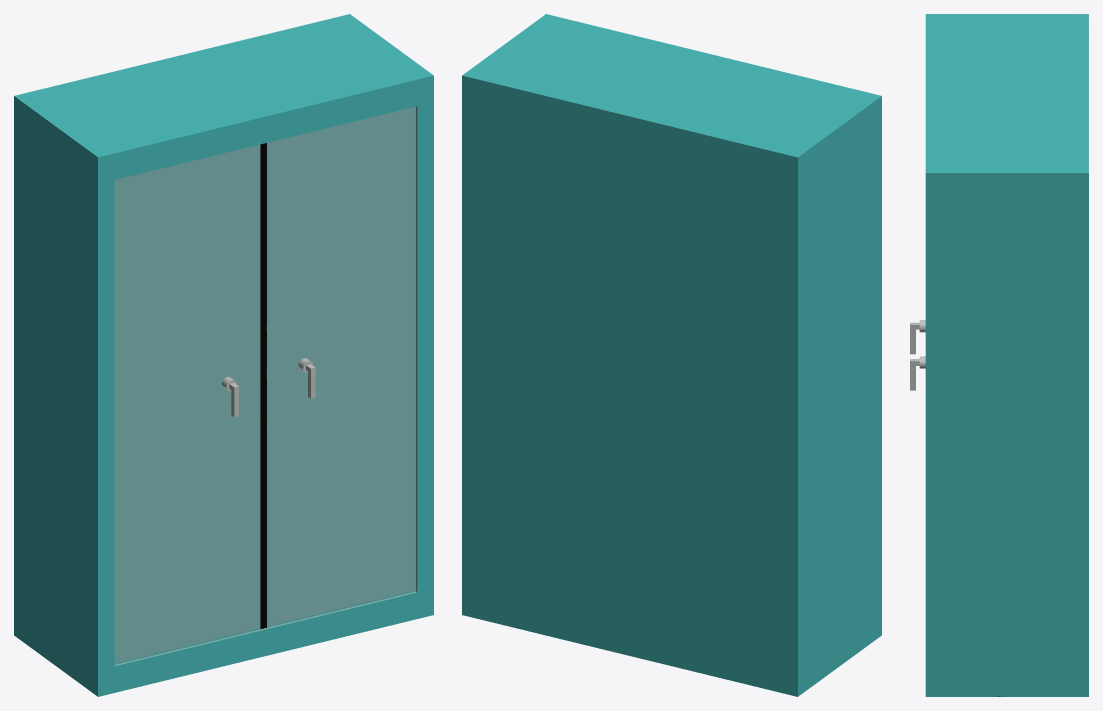
Rendered from Locker.obj.
3 views of the same model, side by side, from view 1: azimuth 30°, elevation 25°; view 2: azimuth 150°, elevation 25°; view 3: azimuth 270°, elevation 25° (orthographic). The views are drawn at different scales.
Visible parts, largest first — view 1: Cube.002_Cube.039; view 2: Cube.002_Cube.039; view 3: Cube.002_Cube.039.
Boxes of the visible parts, x1,y1,x2,y2 form: Cube.002_Cube.039: (14, 14, 433, 696); Cube.002_Cube.039: (462, 14, 881, 696); Cube.002_Cube.039: (910, 14, 1088, 696).
Bounding box in the file's own units: 17.77 × 27.28 × 8.44.
1 material, 1 textured.
